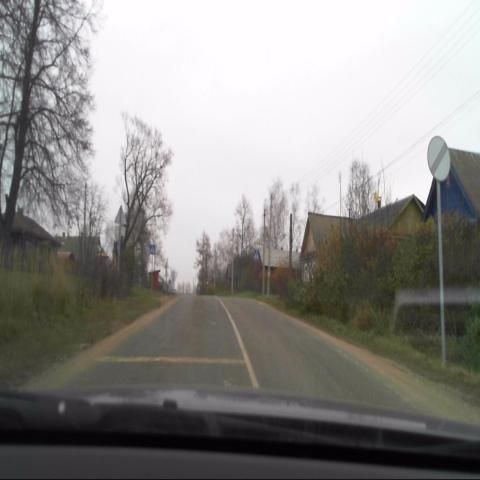3_31: (426, 135, 452, 183)
